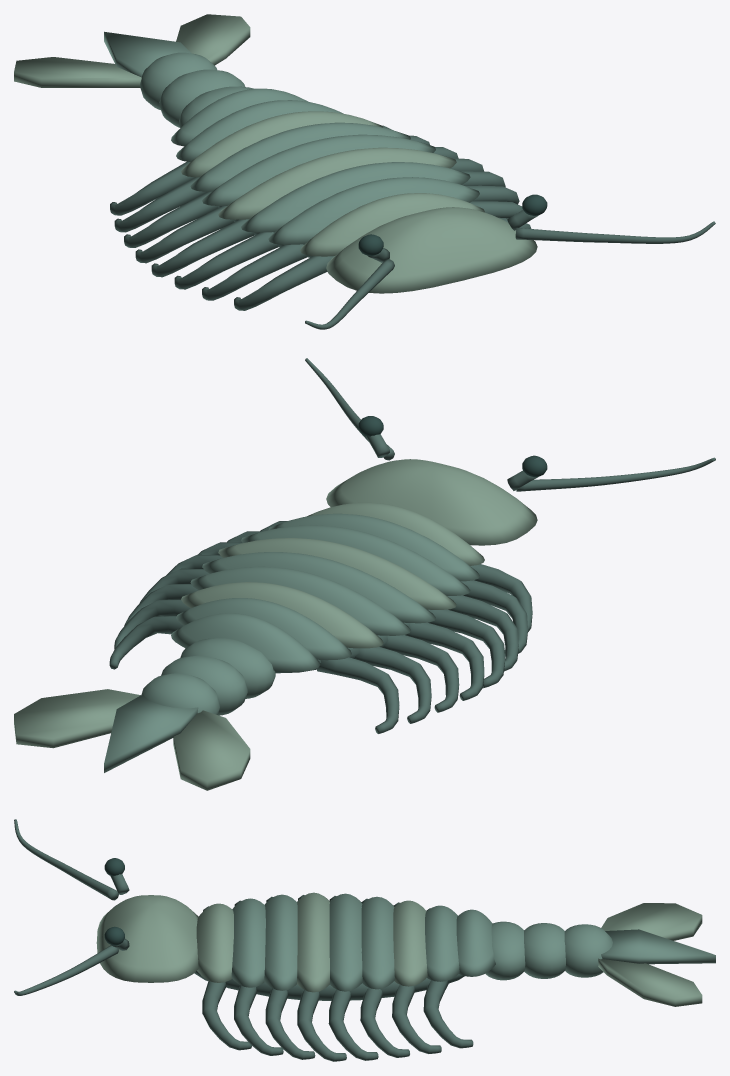
The model's file is sidneyia.glb.
The picture shows the model from 3 angles, top to bottom: view 1: azimuth 30°, elevation 25°; view 2: azimuth 150°, elevation 25°; view 3: azimuth 270°, elevation 25°; orthographic projection. The views are drawn at different scales.
Visible parts, largest first — view 1: Broad overlapping trunk shields, Economical articulated limb groups, Short domed head shield, Telson and paired broad tail paddles, Connected underside and narrow abdominal rings, Slender forward antennae and small eye stalks, Small rounded lateral eyes; view 2: Broad overlapping trunk shields, Economical articulated limb groups, Telson and paired broad tail paddles, Short domed head shield, Connected underside and narrow abdominal rings, Slender forward antennae and small eye stalks, Small rounded lateral eyes; view 3: Broad overlapping trunk shields, Economical articulated limb groups, Telson and paired broad tail paddles, Connected underside and narrow abdominal rings, Short domed head shield, Slender forward antennae and small eye stalks, Small rounded lateral eyes.
Part boxes in pixels (x1=…): Broad overlapping trunk shields: x1=171, y1=88, x2=484, y2=256; Economical articulated limb groups: x1=110, y1=125, x2=531, y2=310; Short domed head shield: x1=326, y1=207, x2=537, y2=293; Telson and paired broad tail paddles: x1=14, y1=14, x2=250, y2=87; Connected underside and narrow abdominal rings: x1=140, y1=52, x2=312, y2=257; Slender forward antennae and small eye stalks: x1=305, y1=210, x2=715, y2=329; Small rounded lateral eyes: x1=358, y1=194, x2=547, y2=255; Broad overlapping trunk shields: x1=171, y1=502, x2=484, y2=671; Economical articulated limb groups: x1=109, y1=521, x2=532, y2=733; Telson and paired broad tail paddles: x1=14, y1=689, x2=250, y2=790; Short domed head shield: x1=326, y1=459, x2=537, y2=545; Connected underside and narrow abdominal rings: x1=141, y1=622, x2=410, y2=715; Slender forward antennae and small eye stalks: x1=305, y1=358, x2=715, y2=491; Small rounded lateral eyes: x1=358, y1=416, x2=547, y2=477; Broad overlapping trunk shields: x1=196, y1=892, x2=495, y2=992; Economical articulated limb groups: x1=202, y1=895, x2=473, y2=1061; Telson and paired broad tail paddles: x1=598, y1=903, x2=715, y2=1006; Connected underside and narrow abdominal rings: x1=194, y1=921, x2=612, y2=1000; Short domed head shield: x1=96, y1=895, x2=198, y2=982; Slender forward antennae and small eye stalks: x1=14, y1=819, x2=129, y2=995; Small rounded lateral eyes: x1=104, y1=858, x2=124, y2=945.
Size of the model in its own units: 0.0916 by 0.0241 by 0.1576.
